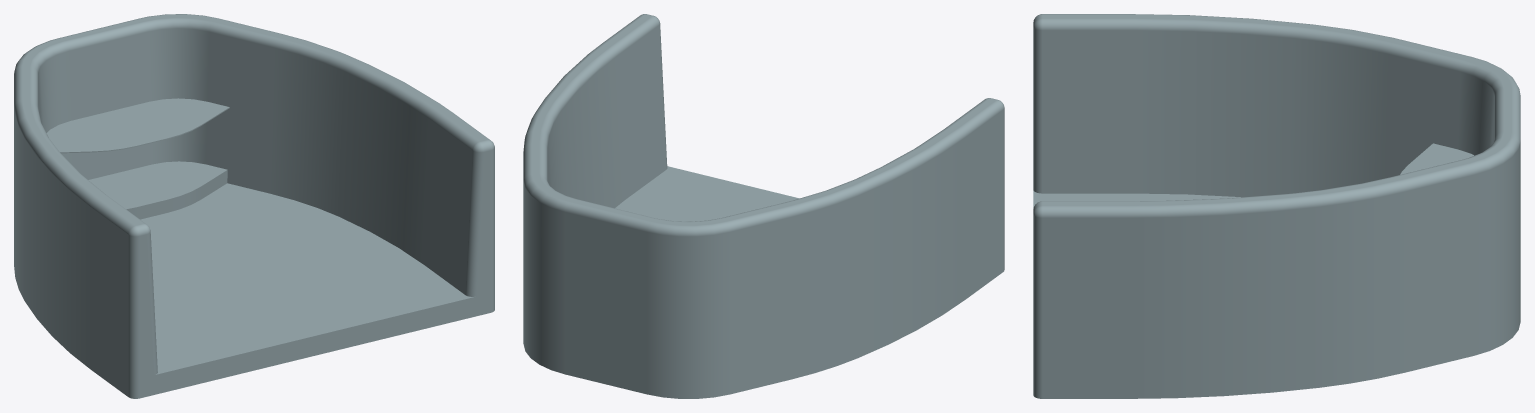
Rendered from Stage.FBX.
3 renders of one model, left to right at view 1: azimuth 30°, elevation 25°; view 2: azimuth 150°, elevation 25°; view 3: azimuth 270°, elevation 25°, orthographic. The views are drawn at different scales.
Visible parts, largest first — view 1: A5FC82A7F613A559C2846CE874ADE570A60A6373|:|B8A4396250C5687B1; view 2: A5FC82A7F613A559C2846CE874ADE570A60A6373|:|B8A4396250C5687B1; view 3: A5FC82A7F613A559C2846CE874ADE570A60A6373|:|B8A4396250C5687B1.
Boxes of the visible parts, x1=… form: A5FC82A7F613A559C2846CE874ADE570A60A6373|:|B8A4396250C5687B1: x1=14, y1=14, x2=494, y2=398; A5FC82A7F613A559C2846CE874ADE570A60A6373|:|B8A4396250C5687B1: x1=523, y1=14, x2=1004, y2=398; A5FC82A7F613A559C2846CE874ADE570A60A6373|:|B8A4396250C5687B1: x1=1033, y1=14, x2=1520, y2=398.
Size of the model in its own units: 6.65 by 2.95 by 6.89.
